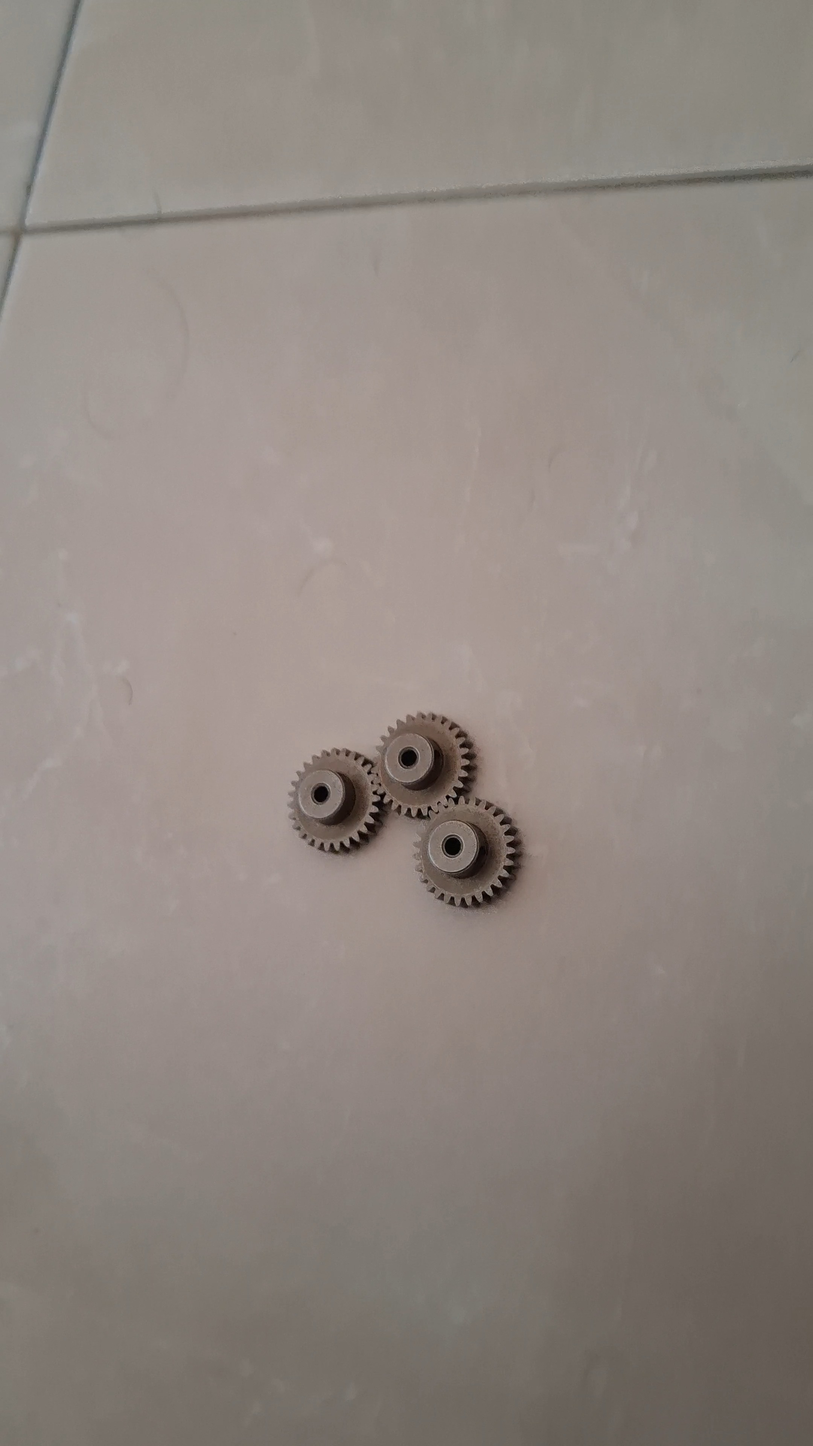spur gear: (416, 799, 520, 906), (379, 713, 474, 816), (290, 749, 383, 852)
